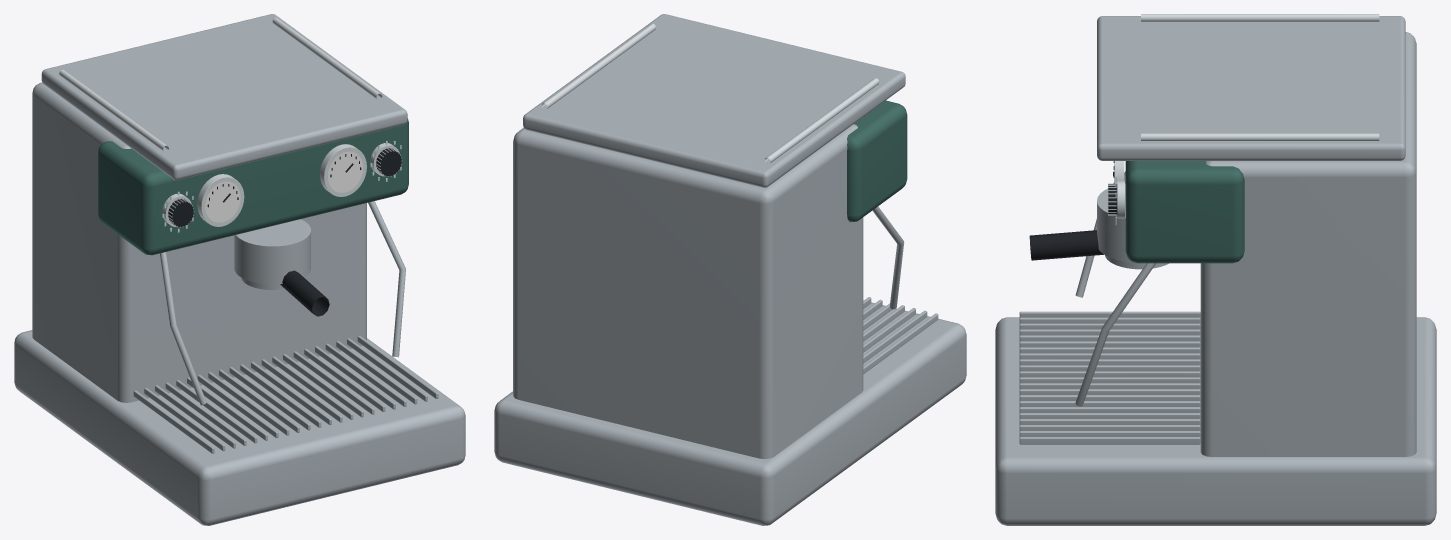
The model's file is atelier-espresso.glb.
The picture shows the model from 3 angles, left to right: view 1: azimuth 30°, elevation 25°; view 2: azimuth 150°, elevation 25°; view 3: azimuth 270°, elevation 25°; orthographic projection. The views are drawn at different scales.
Parts seen in each view (by area): view 1: catalog_surface_RealismUV; view 2: catalog_surface_RealismUV; view 3: catalog_surface_RealismUV.
Part boxes in pixels (x1=…): catalog_surface_RealismUV: x1=14, y1=14, x2=465, y2=525; catalog_surface_RealismUV: x1=494, y1=14, x2=966, y2=525; catalog_surface_RealismUV: x1=995, y1=14, x2=1436, y2=525.
Size of the model in its own units: 0.36 by 0.44 by 0.45.
